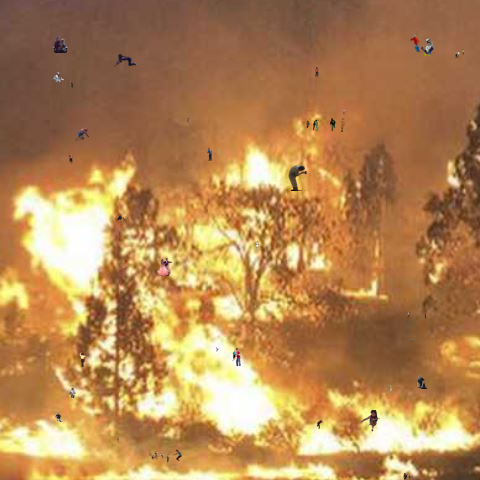Human: (306, 118, 345, 132), (357, 410, 380, 433), (149, 449, 182, 465), (288, 165, 308, 191), (410, 35, 434, 56), (112, 54, 150, 67), (157, 258, 172, 276), (53, 36, 68, 53), (70, 352, 86, 367), (75, 128, 89, 141), (407, 311, 426, 320), (232, 348, 241, 366), (417, 375, 427, 389), (115, 214, 127, 224), (53, 72, 64, 82), (55, 412, 63, 422), (69, 388, 76, 398), (403, 473, 413, 480), (314, 67, 320, 78), (207, 148, 212, 161), (316, 420, 323, 429), (455, 52, 461, 59), (69, 154, 73, 164), (389, 385, 393, 394), (114, 436, 119, 442), (256, 241, 259, 250), (70, 82, 73, 88), (143, 175, 148, 178), (216, 347, 219, 352), (462, 49, 464, 55), (343, 109, 345, 114), (187, 118, 189, 123), (411, 338, 413, 343)
